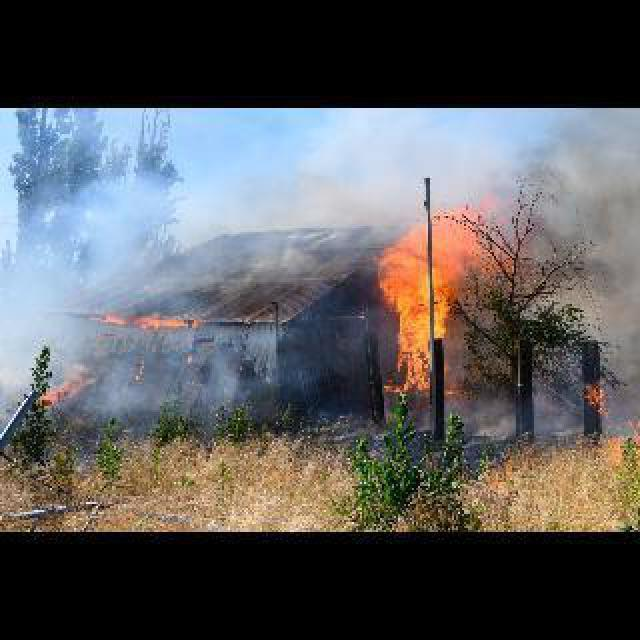Fire: (368, 196, 508, 394), (26, 352, 92, 416), (98, 302, 208, 326), (580, 374, 622, 424)
Smoke: (2, 106, 380, 300), (94, 328, 364, 446), (364, 396, 574, 446)
